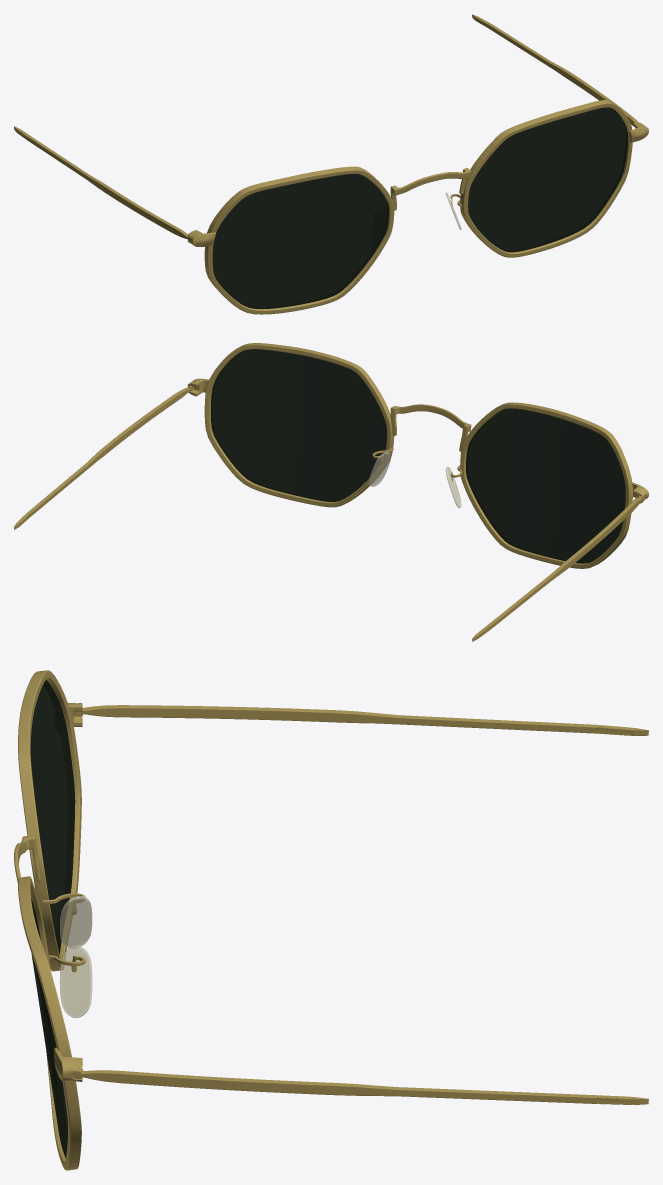
File: Octagonal.gltf
3 views of the same model, one above another, from view 1: azimuth 30°, elevation 25°; view 2: azimuth 150°, elevation 25°; view 3: azimuth 270°, elevation 25° (orthographic). The views are drawn at different scales.
Visible parts, largest first — view 1: lentes, armacao; view 2: lentes, armacao, ponte; view 3: armacao, lentes, ponte.
Part boxes in pixels (bbox=[...]): lentes: bbox=[212, 107, 627, 309]; armacao: bbox=[14, 14, 648, 314]; lentes: bbox=[211, 349, 625, 563]; armacao: bbox=[14, 343, 648, 641]; ponte: bbox=[368, 452, 461, 508]; armacao: bbox=[14, 670, 648, 1170]; lentes: bbox=[30, 680, 75, 1157]; ponte: bbox=[59, 895, 92, 1017].
Size of the model in its own units: 0.1586 by 0.0464 by 0.1133.
3 materials, 2 textured.
